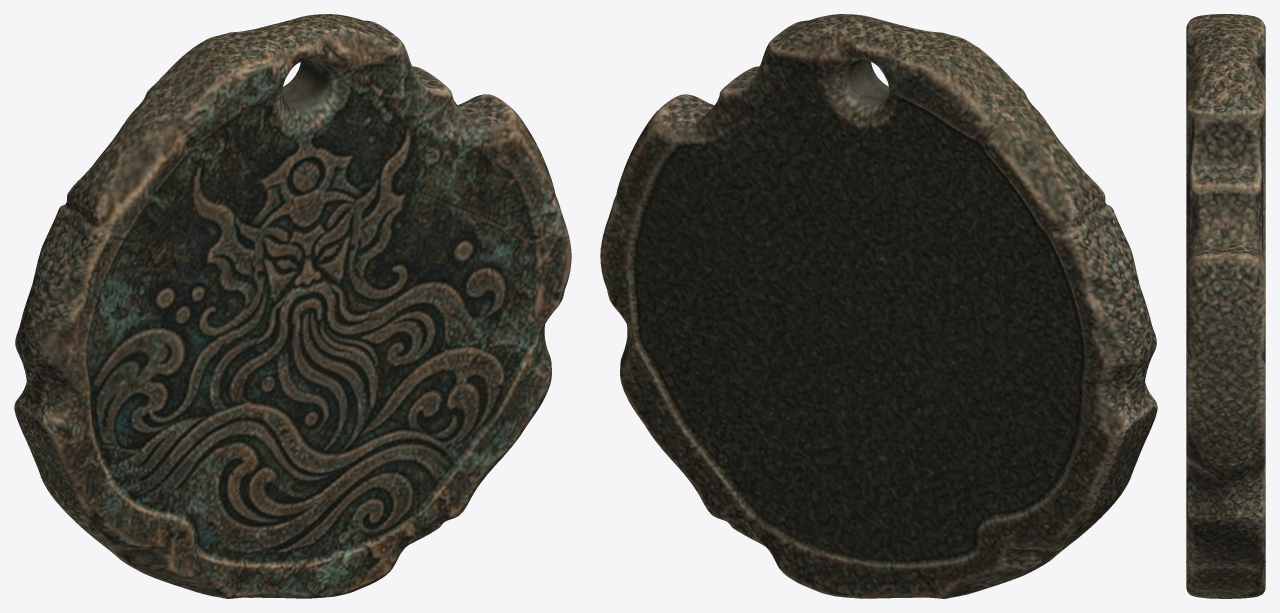
Rendered from Meshy_AI_Kraken_Medallion_1018144736_texture.fbx.
The picture shows the model from 3 angles, left to right: view 1: azimuth 30°, elevation 25°; view 2: azimuth 150°, elevation 25°; view 3: azimuth 270°, elevation 25°; orthographic projection. The views are drawn at different scales.
Visible parts, largest first — view 1: Mesh_0; view 2: Mesh_0; view 3: Mesh_0.
Boxes of the visible parts, x1,y1,x2,y2 form: Mesh_0: (14,14,571,598); Mesh_0: (600,14,1157,598); Mesh_0: (1186,14,1265,598).
Bounding box in the file's own units: 186 × 190 × 25.72.
Materials: 1 (1 with a texture image).
